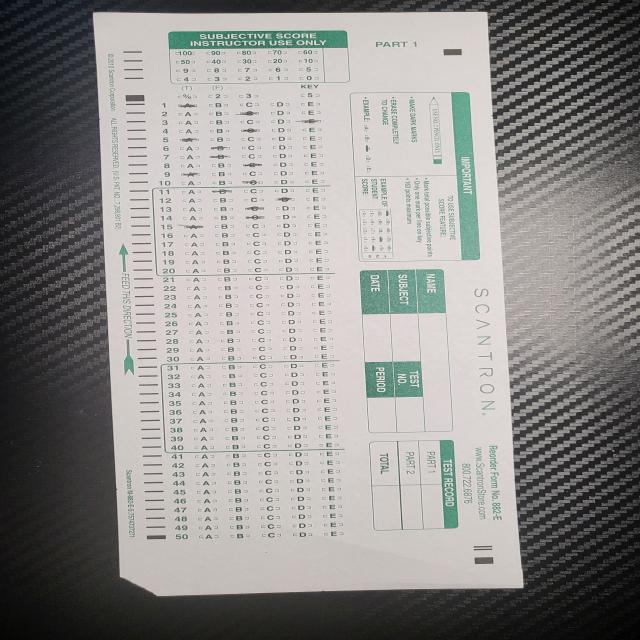scantron: (92, 11, 525, 596)
